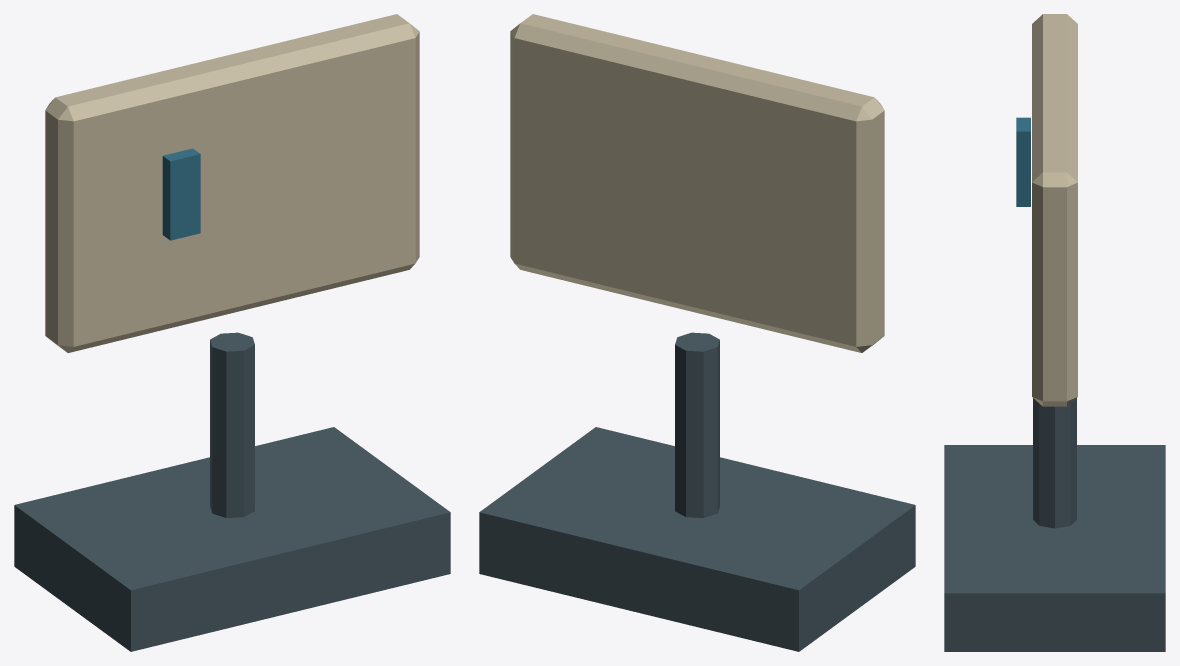
The model's file is set_directional_plaque.glb.
3 renders of one model, left to right at view 1: azimuth 30°, elevation 25°; view 2: azimuth 150°, elevation 25°; view 3: azimuth 270°, elevation 25°, orthographic. The views are drawn at different scales.
Visible parts, largest first — view 1: set_directional_plaque; view 2: set_directional_plaque; view 3: set_directional_plaque.
Part boxes in pixels (<box>): set_directional_plaque: <box>14,14,450,651</box>; set_directional_plaque: <box>479,14,915,651</box>; set_directional_plaque: <box>944,14,1165,651</box>.
Size of the model in its own units: 0.215 by 0.2895 by 0.12.
